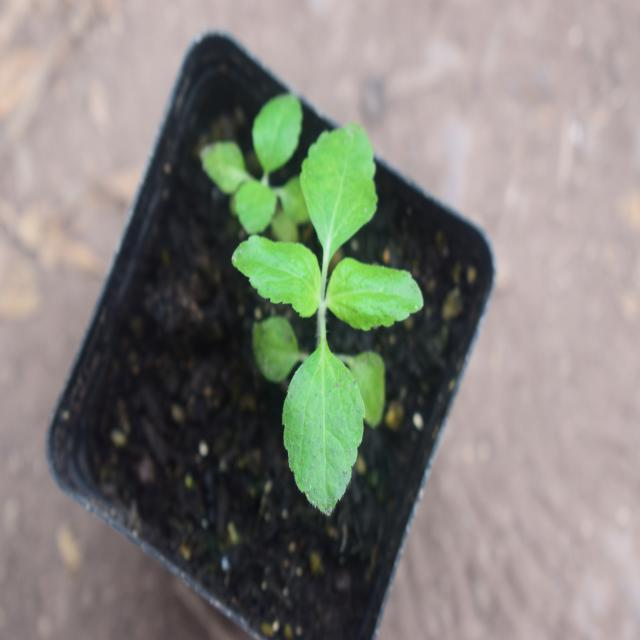billygoat_weed: (250, 118, 407, 514)
